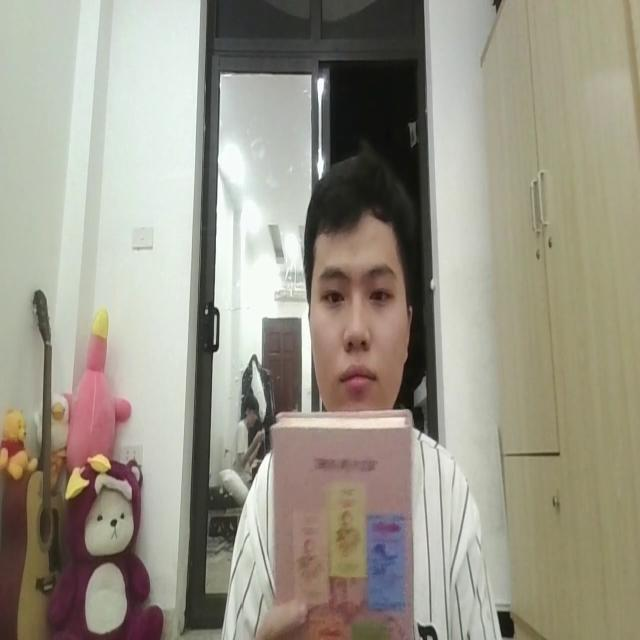book: (268, 404, 420, 640)
student: (225, 146, 502, 640)
